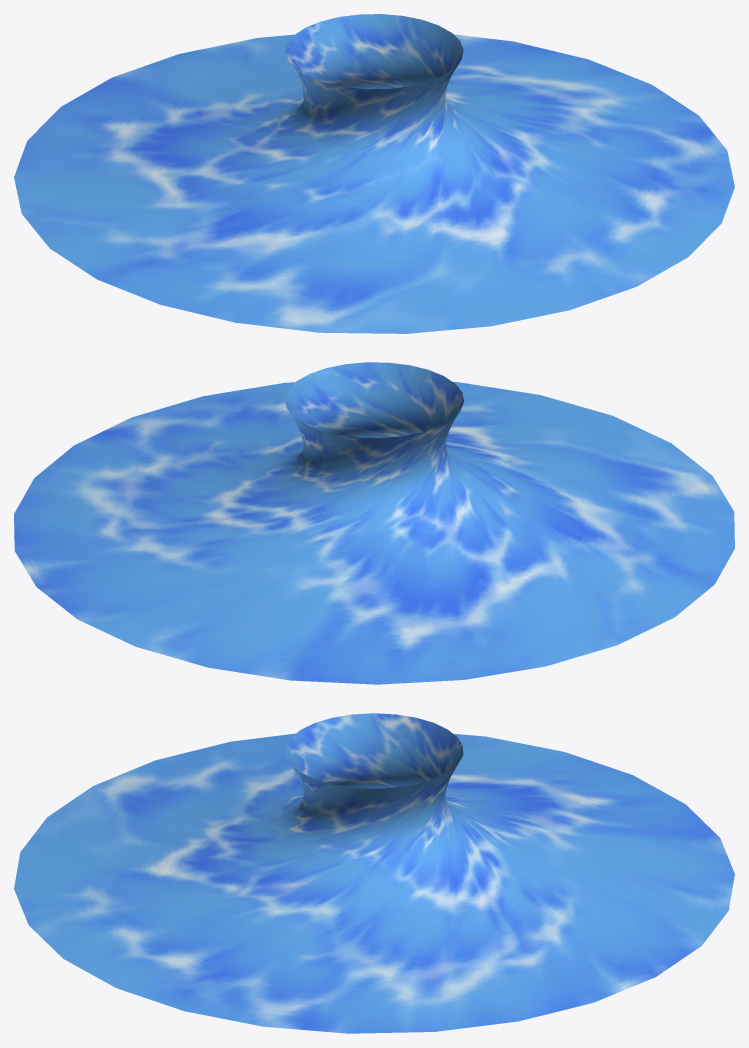
The model's file is xishou_001.FBX.
3 views of the same model, one above another, from view 1: azimuth 30°, elevation 25°; view 2: azimuth 150°, elevation 25°; view 3: azimuth 270°, elevation 25° (orthographic).
Visible parts, largest first — view 1: xishou_001; view 2: xishou_001; view 3: xishou_001.
Part boxes in pixels (x1=…): xishou_001: x1=14, y1=14, x2=734, y2=333; xishou_001: x1=14, y1=362, x2=734, y2=684; xishou_001: x1=14, y1=713, x2=734, y2=1033.
Size of the model in its own units: 54.08 by 10.82 by 54.16.
